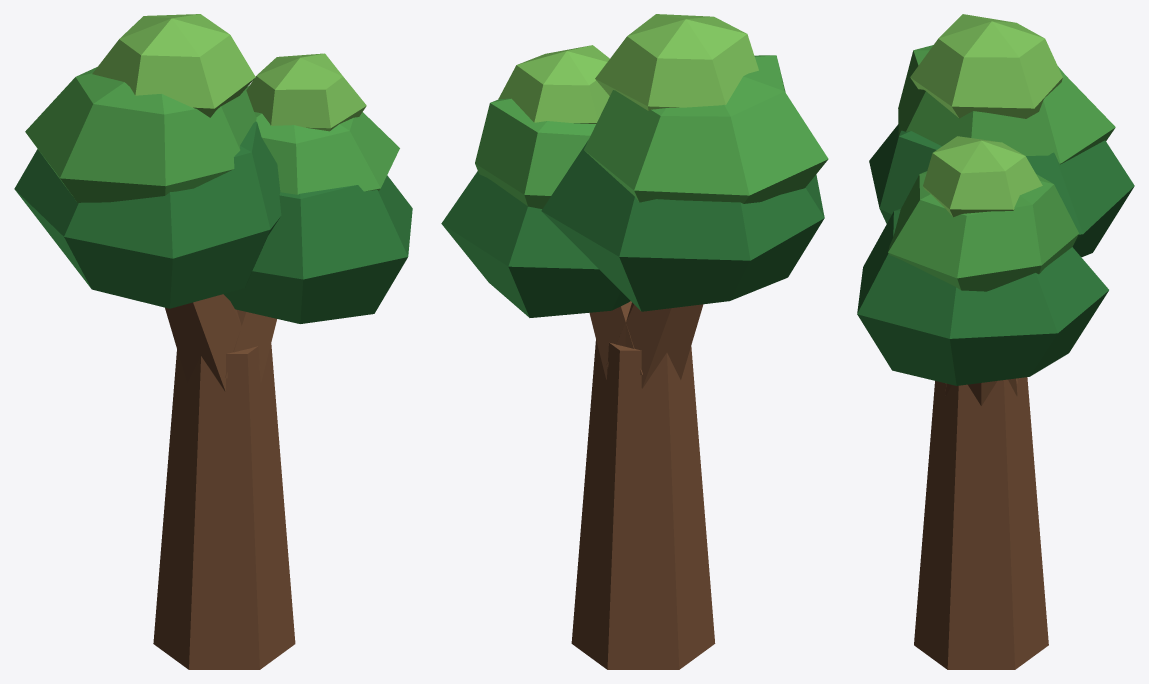
Rendered from wood_tree_tall.fbx.
3 renders of one model, left to right at view 1: azimuth 30°, elevation 25°; view 2: azimuth 150°, elevation 25°; view 3: azimuth 270°, elevation 25°, orthographic. The views are drawn at different scales.
Parts seen in each view (by area): view 1: wood_tree_tall__leaf_dark, wood_tree_tall__bark, wood_tree_tall__leaf, wood_tree_tall__leaf_light; view 2: wood_tree_tall__bark, wood_tree_tall__leaf_dark, wood_tree_tall__leaf, wood_tree_tall__leaf_light; view 3: wood_tree_tall__leaf_dark, wood_tree_tall__bark, wood_tree_tall__leaf, wood_tree_tall__leaf_light.
Part boxes in pixels (<box>): wood_tree_tall__leaf_dark: <box>14,121,412,323</box>; wood_tree_tall__bark: <box>153,294,295,669</box>; wood_tree_tall__leaf: <box>25,67,399,202</box>; wood_tree_tall__leaf_light: <box>92,14,366,131</box>; wood_tree_tall__bark: <box>571,301,715,669</box>; wood_tree_tall__leaf_dark: <box>441,141,824,317</box>; wood_tree_tall__leaf: <box>475,55,828,209</box>; wood_tree_tall__leaf_light: <box>498,14,758,123</box>; wood_tree_tall__leaf_dark: <box>857,124,1134,385</box>; wood_tree_tall__bark: <box>914,377,1048,669</box>; wood_tree_tall__leaf: <box>888,45,1115,291</box>; wood_tree_tall__leaf_light: <box>910,14,1062,217</box>.
Size of the model in its own units: 730 by 1279 by 535.
